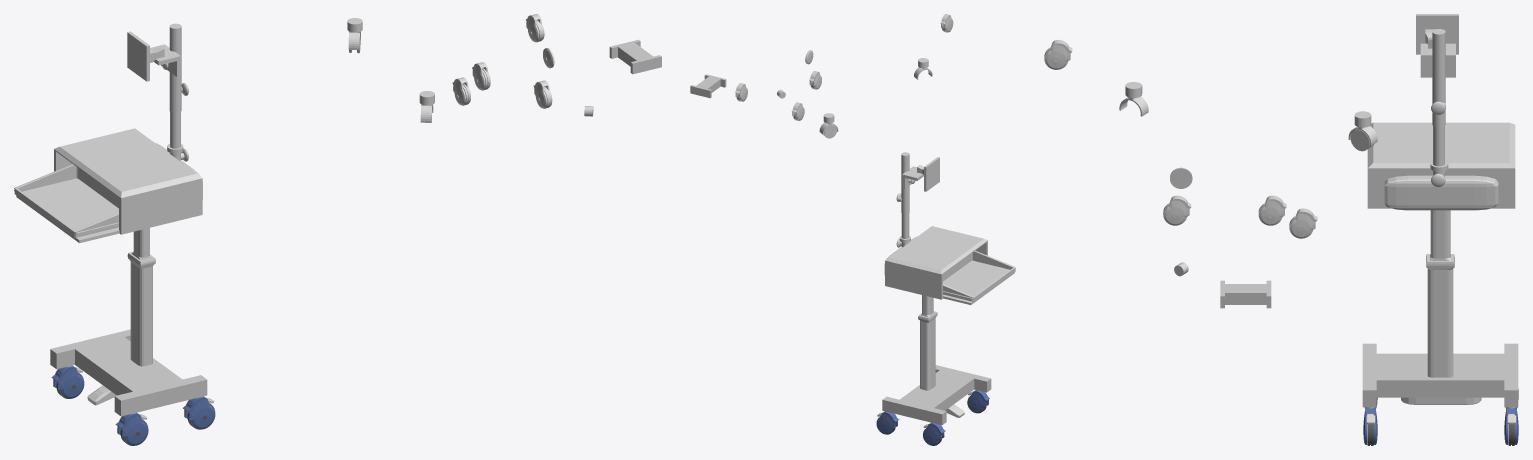
The model's file is computerdeskcart.fbx.
The picture shows the model from 3 angles, left to right: view 1: azimuth 30°, elevation 25°; view 2: azimuth 150°, elevation 25°; view 3: azimuth 270°, elevation 25°; orthographic projection. The views are drawn at different scales.
Parts seen in each view (by area): view 1: Cube.002, Cube, Cube.010, Cube.001, Cube.004, Cube.008, Cylinder.001, Cylinder.033, Cylinder.030, Cylinder.025; view 2: Cube.002, Cube, Cube.010, Cube.001, Cube.004, Cylinder.001, Cube.008, Cylinder.030, Cylinder.023, Cylinder.025; view 3: Cube.002, Cube, Cube.001, Cube.003, Cylinder.001, Cube.004, Cube.008, Cube.020, Cylinder.014, Cylinder.009, Cylinder.017, Cylinder.020 (+2 smaller).
Part boxes in pixels (x1=…): Cube.002: x1=54, y1=128, x2=202, y2=234; Cube: x1=50, y1=329, x2=207, y2=416; Cube.010: x1=14, y1=164, x2=118, y2=237; Cube.001: x1=127, y1=228, x2=155, y2=366; Cube.004: x1=609, y1=39, x2=661, y2=74; Cube.008: x1=127, y1=31, x2=149, y2=81; Cylinder.001: x1=169, y1=23, x2=181, y2=113; Cylinder.033: x1=183, y1=396, x2=215, y2=429; Cylinder.030: x1=115, y1=412, x2=148, y2=445; Cylinder.025: x1=51, y1=365, x2=84, y2=398; Cube.002: x1=885, y1=226, x2=987, y2=299; Cube: x1=882, y1=365, x2=991, y2=425; Cube.010: x1=943, y1=250, x2=1015, y2=301; Cube.001: x1=918, y1=295, x2=937, y2=390; Cube.004: x1=690, y1=74, x2=726, y2=98; Cylinder.001: x1=901, y1=152, x2=909, y2=214; Cube.008: x1=924, y1=157, x2=939, y2=191; Cylinder.030: x1=967, y1=390, x2=989, y2=413; Cylinder.023: x1=876, y1=411, x2=899, y2=434; Cylinder.025: x1=923, y1=423, x2=945, y2=445; Cube.002: x1=1367, y1=122, x2=1515, y2=208; Cube: x1=1362, y1=343, x2=1518, y2=407; Cube.001: x1=1426, y1=210, x2=1454, y2=377; Cube.003: x1=1384, y1=175, x2=1498, y2=210; Cylinder.001: x1=1432, y1=29, x2=1445, y2=127; Cube.004: x1=1220, y1=280, x2=1271, y2=308; Cube.008: x1=1416, y1=14, x2=1458, y2=54; Cube.020: x1=1401, y1=397, x2=1481, y2=404; Cylinder.014: x1=1259, y1=195, x2=1286, y2=225; Cylinder.009: x1=1045, y1=39, x2=1072, y2=69; Cylinder.017: x1=1164, y1=196, x2=1191, y2=225; Cylinder.020: x1=1290, y1=209, x2=1317, y2=238.
Size of the model in its own units: 3698 by 2902 by 2672.
